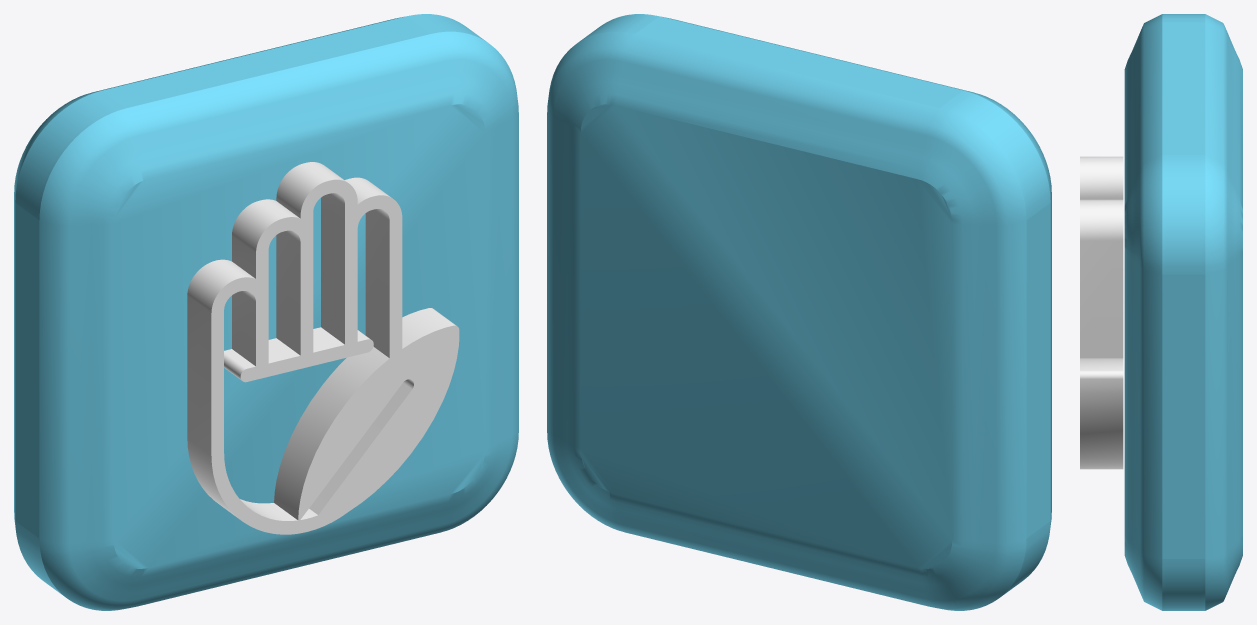
Rendered from 05_annong.glb.
3 views of the same model, side by side, from view 1: azimuth 30°, elevation 25°; view 2: azimuth 150°, elevation 25°; view 3: azimuth 270°, elevation 25° (orthographic). The views are drawn at different scales.
Visible parts, largest first — view 1: 돌출.2, 돌출.5; view 2: 돌출.2; view 3: 돌출.2, 돌출.5.
Part boxes in pixels (bbox=[...]): 돌출.2: bbox=[14, 14, 518, 610]; 돌출.5: bbox=[187, 162, 459, 534]; 돌출.2: bbox=[547, 14, 1051, 610]; 돌출.2: bbox=[1124, 14, 1242, 610]; 돌출.5: bbox=[1080, 156, 1123, 469].
Bounding box in the file's own units: 2.81 × 2.81 × 0.9262.
